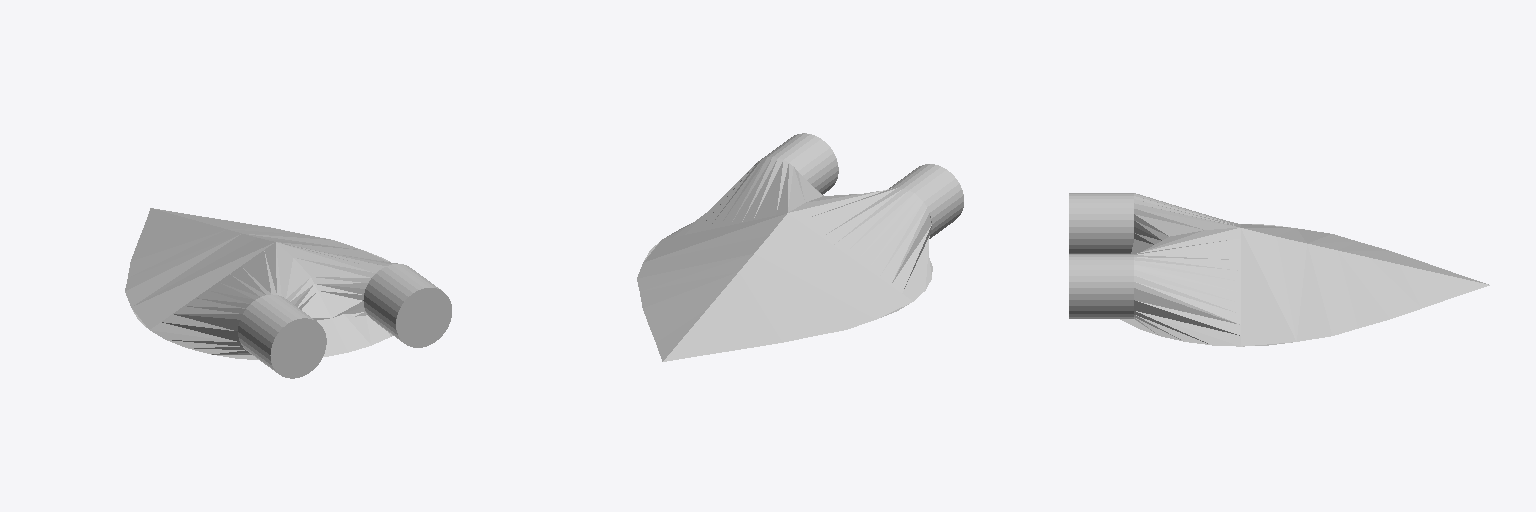
File: ship2.obj
3 views of the same model, side by side, from view 1: azimuth 30°, elevation 25°; view 2: azimuth 150°, elevation 25°; view 3: azimuth 270°, elevation 25° (orthographic).
Parts seen in each view (by area): view 1: Circle; view 2: Circle; view 3: Circle.
Part boxes in pixels (x1,y1,x2,y2): Circle: (125, 208, 451, 378); Circle: (637, 133, 963, 361); Circle: (1069, 193, 1489, 346).
Size of the model in its own units: 8.16 by 1.82 by 11.81.